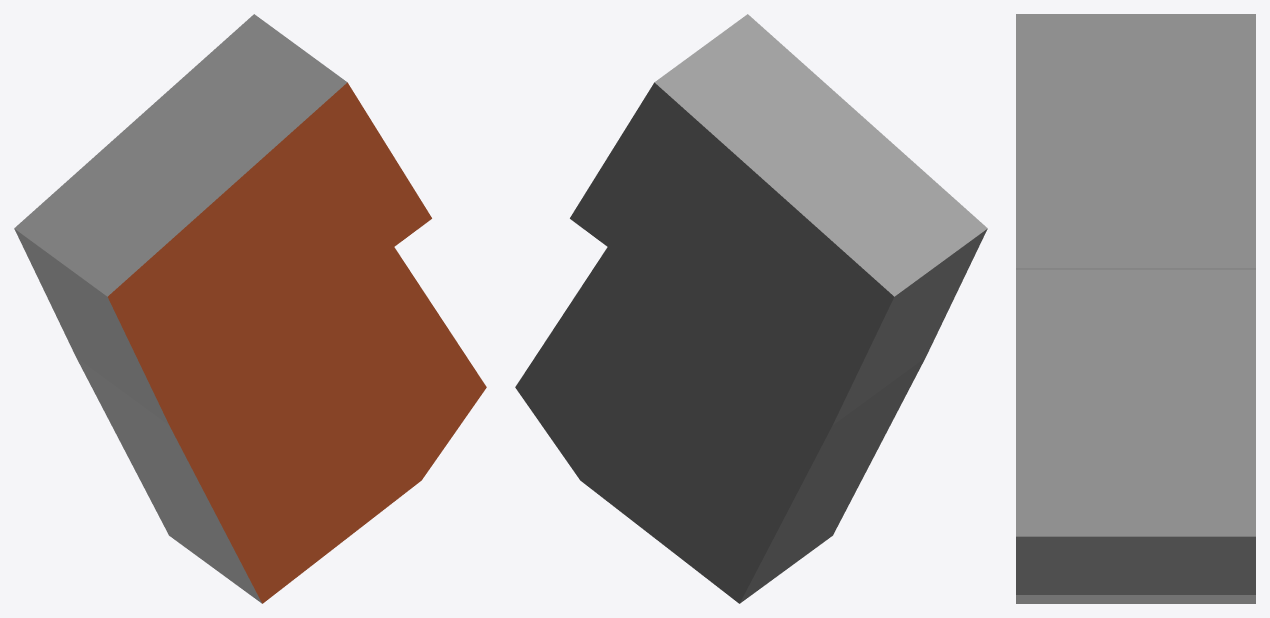
File: construction_7036_assumed_A_Casa_h6m.obj
3 views of the same model, side by side, from view 1: azimuth 30°, elevation 25°; view 2: azimuth 150°, elevation 25°; view 3: azimuth 270°, elevation 25° (orthographic). The views are drawn at different scales.
Parts seen in each view (by area): view 1: construction_7036_assumed_A_Casa; view 2: construction_7036_assumed_A_Casa; view 3: construction_7036_assumed_A_Casa.
Part boxes in pixels (bbox=[...]): construction_7036_assumed_A_Casa: bbox=[14, 14, 486, 603]; construction_7036_assumed_A_Casa: bbox=[515, 14, 987, 603]; construction_7036_assumed_A_Casa: bbox=[1016, 14, 1255, 603].
Size of the model in its own units: 14.07 by 17.75 by 6.
